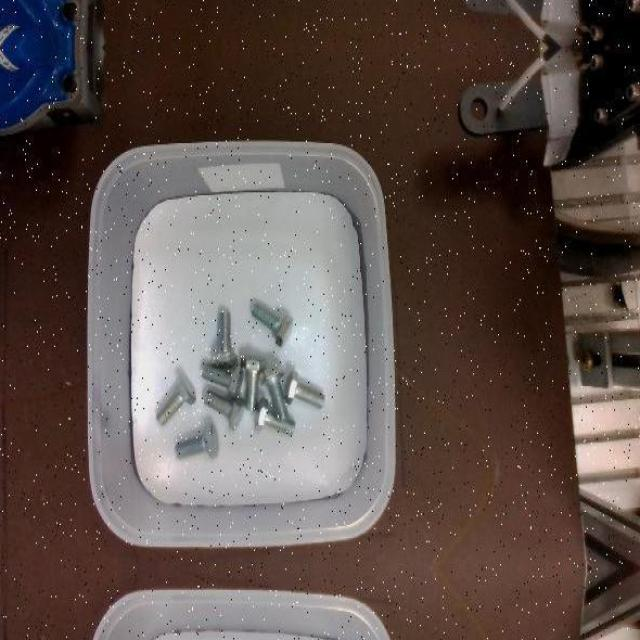screw: (158, 375, 196, 426), (253, 302, 294, 348), (259, 364, 290, 422), (203, 388, 245, 430), (202, 361, 245, 399), (177, 423, 222, 459), (286, 370, 326, 409), (212, 310, 238, 367), (241, 354, 266, 410)
